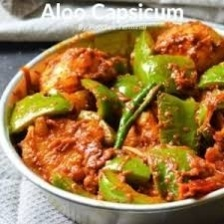sabzi: (1, 18, 224, 216)
